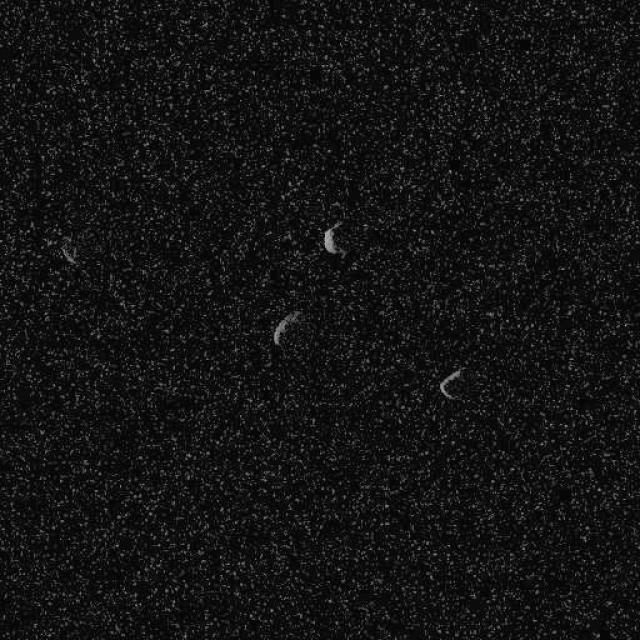D2: (271, 309, 301, 350), (437, 365, 465, 401), (320, 223, 342, 255)
